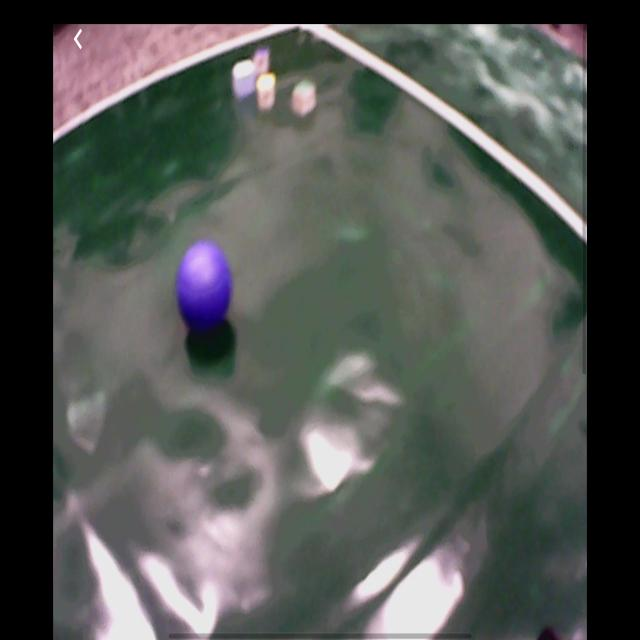ball: (177, 240, 234, 330)
